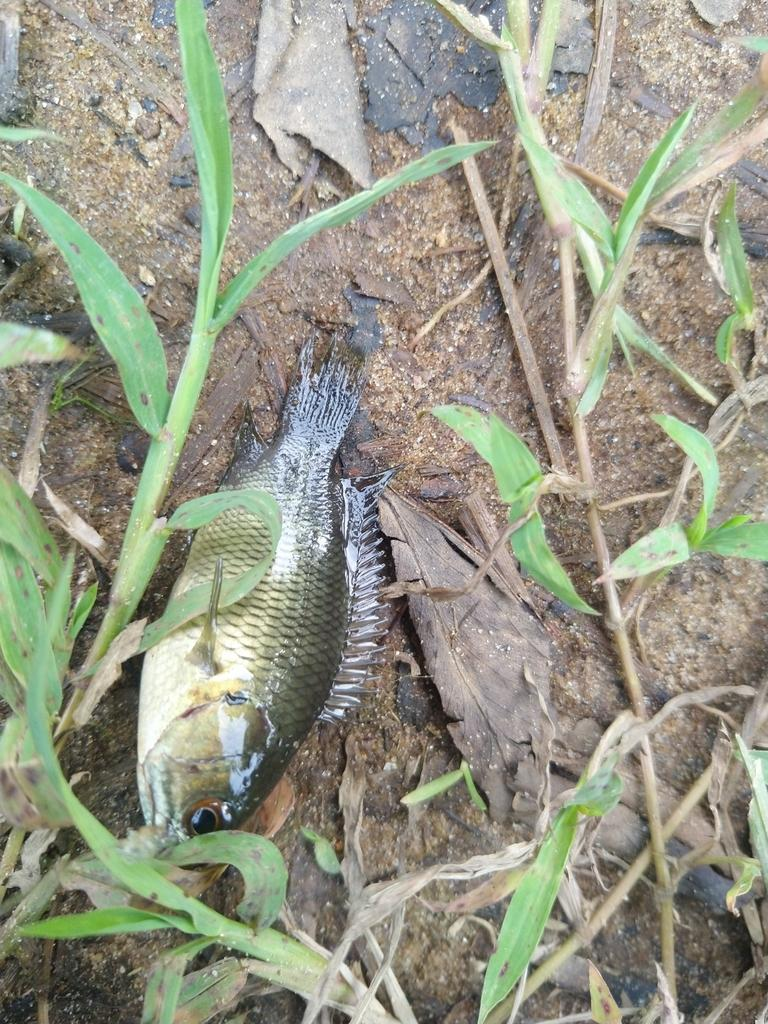Climbing Perch: (141, 310, 393, 870)
